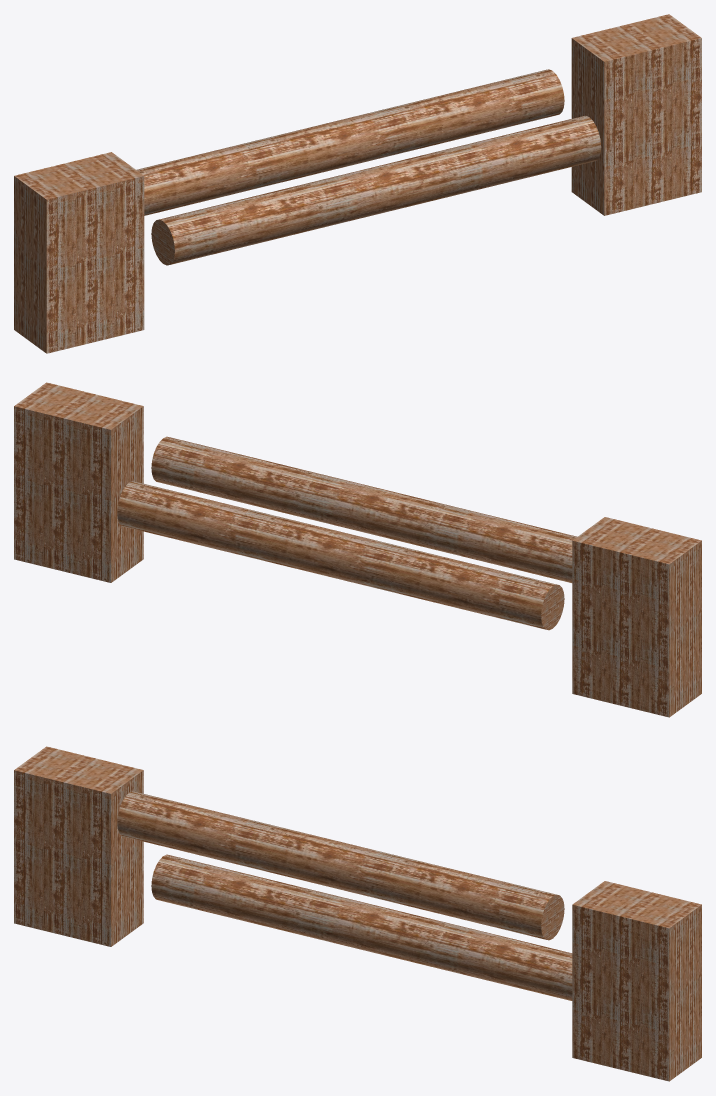
Rendered from Entrance.fbx.
3 views of the same model, one above another, from view 1: azimuth 30°, elevation 25°; view 2: azimuth 150°, elevation 25°; view 3: azimuth 330°, elevation 25° (orthographic).
Visible parts, largest first — view 1: pCube1, pCube2, pCylinder2, pCylinder1; view 2: pCube1, pCube2, pCylinder2, pCylinder1; view 3: pCube2, pCube1, pCylinder1, pCylinder2.
Boxes of the visible parts, x1,y1,x2,y2 form: pCube1: (14,152,144,353); pCube2: (571,14,701,215); pCylinder2: (151,115,601,265); pCylinder1: (136,69,564,215); pCube1: (572,517,701,717); pCube2: (14,382,143,582); pCylinder2: (117,481,564,630); pCylinder1: (151,436,577,582); pCube2: (572,881,701,1081); pCube1: (14,746,143,946); pCylinder1: (117,791,564,940); pCylinder2: (151,854,572,1000).
Size of the model in its own units: 33.17 by 7.43 by 3.03.
